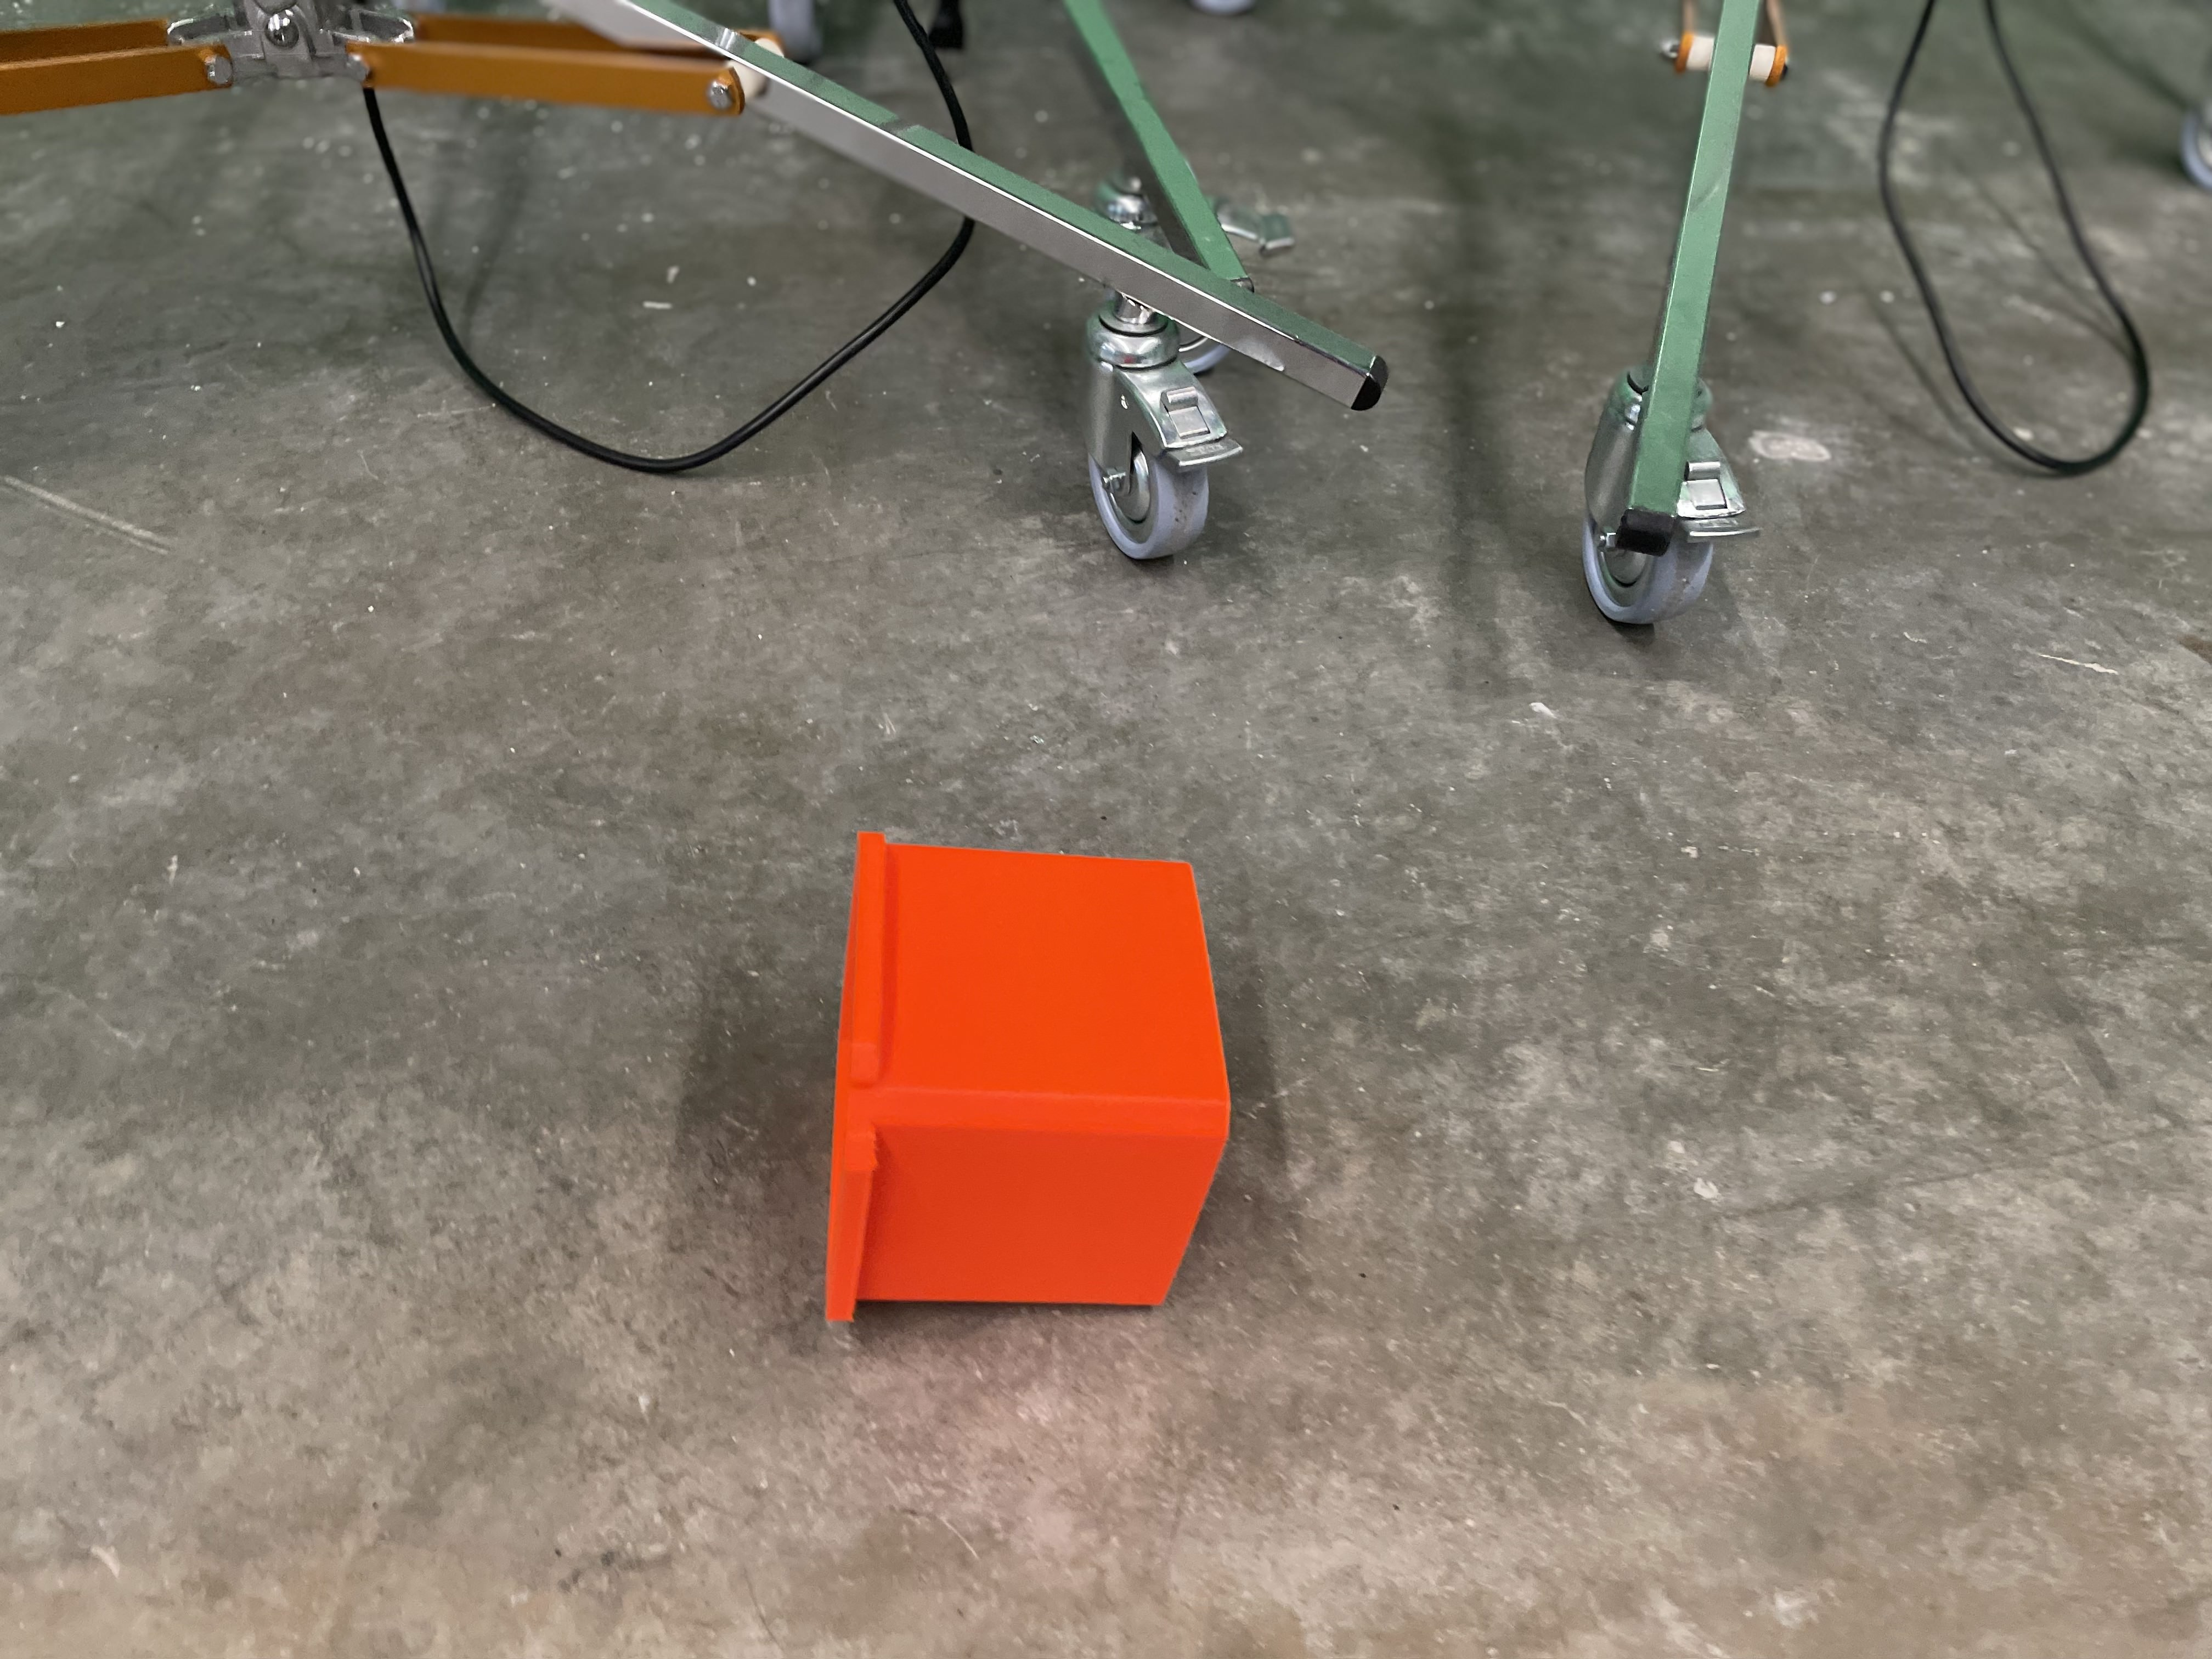payload1: (805, 809, 1273, 1368)
